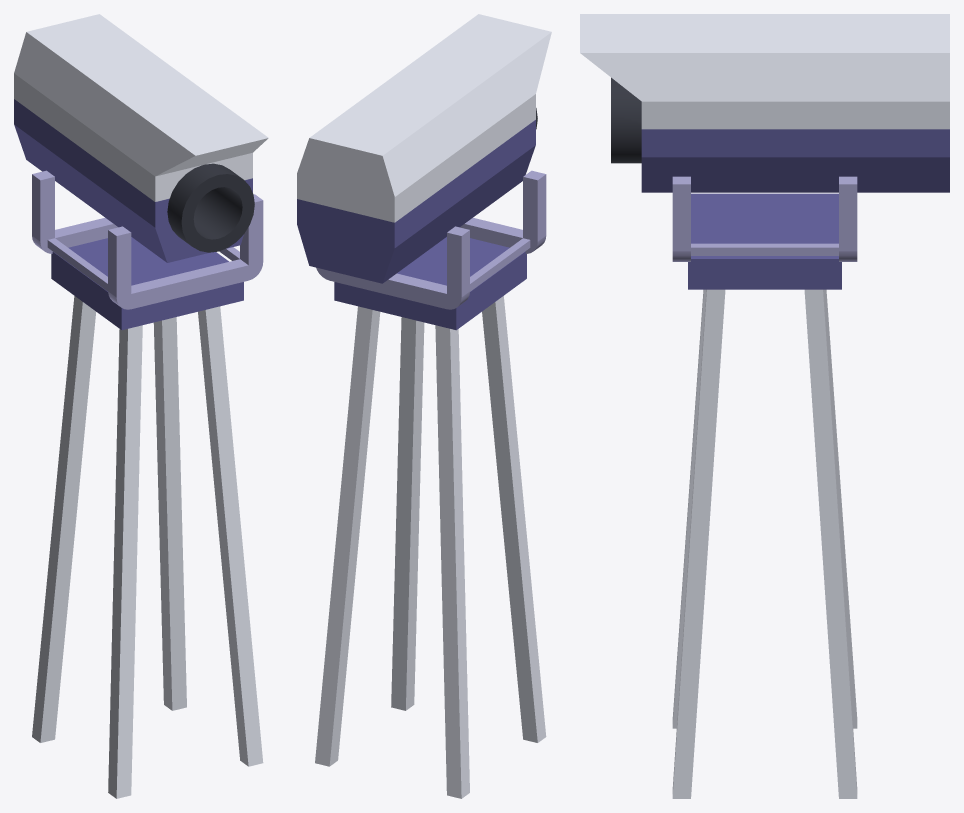
The model's file is Camera.fbx.
3 renders of one model, left to right at view 1: azimuth 30°, elevation 25°; view 2: azimuth 150°, elevation 25°; view 3: azimuth 270°, elevation 25°, orthographic. The views are drawn at different scales.
Visible parts, largest first — view 1: gear_slant, mediumBlaster_barrelShort, detail_rollbarLarge, roof_flatCenter; view 2: mediumBlaster_barrelShort, gear_slant, detail_rollbarLarge, roof_flatCenter; view 3: mediumBlaster_barrelShort, gear_slant, roof_flatCenter, detail_rollbarLarge.
Part boxes in pixels (x1,y1,x2,y2): gear_slant: (32,296,263,798); mediumBlaster_barrelShort: (14,14,268,262); detail_rollbarLarge: (32,170,263,309); roof_flatCenter: (51,237,243,330); mediumBlaster_barrelShort: (297,14,551,283); gear_slant: (315,296,546,798); detail_rollbarLarge: (316,170,546,309); roof_flatCenter: (334,237,526,330); mediumBlaster_barrelShort: (580,14,949,192); gear_slant: (672,289,857,798); roof_flatCenter: (688,193,841,289); detail_rollbarLarge: (672,176,857,261).
Size of the model in its own units: 3 by 13 by 6.
